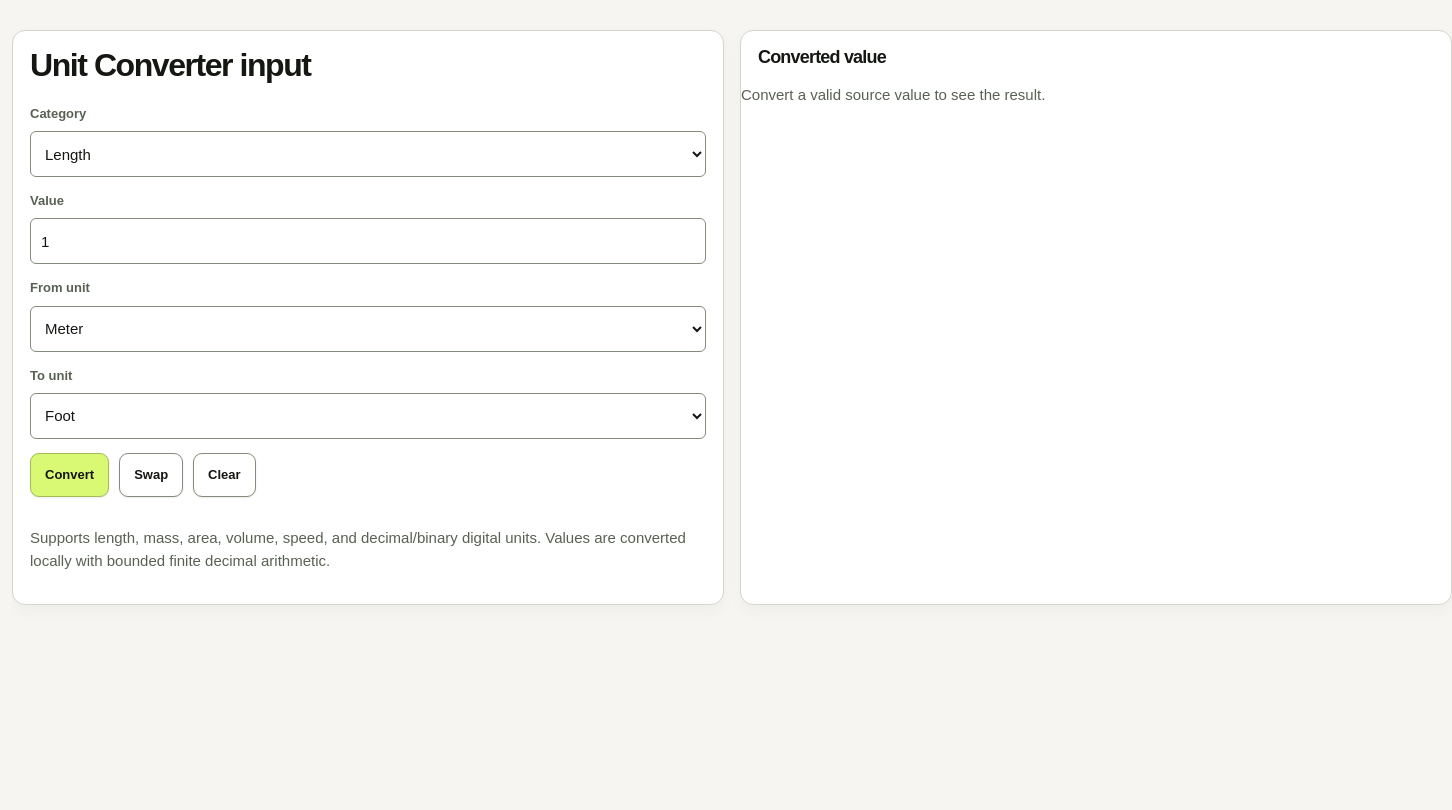
Scenario: NumericStation › renders the declared controls and converts unit-converter
Expected: the dropdown labelled "Category" is shown, [30,131,706,177]
Expected: the field labelled "Value" is shown, [30,218,706,264]
Click the button "Convert" at coordinates (70, 475), box [30,453,109,497]
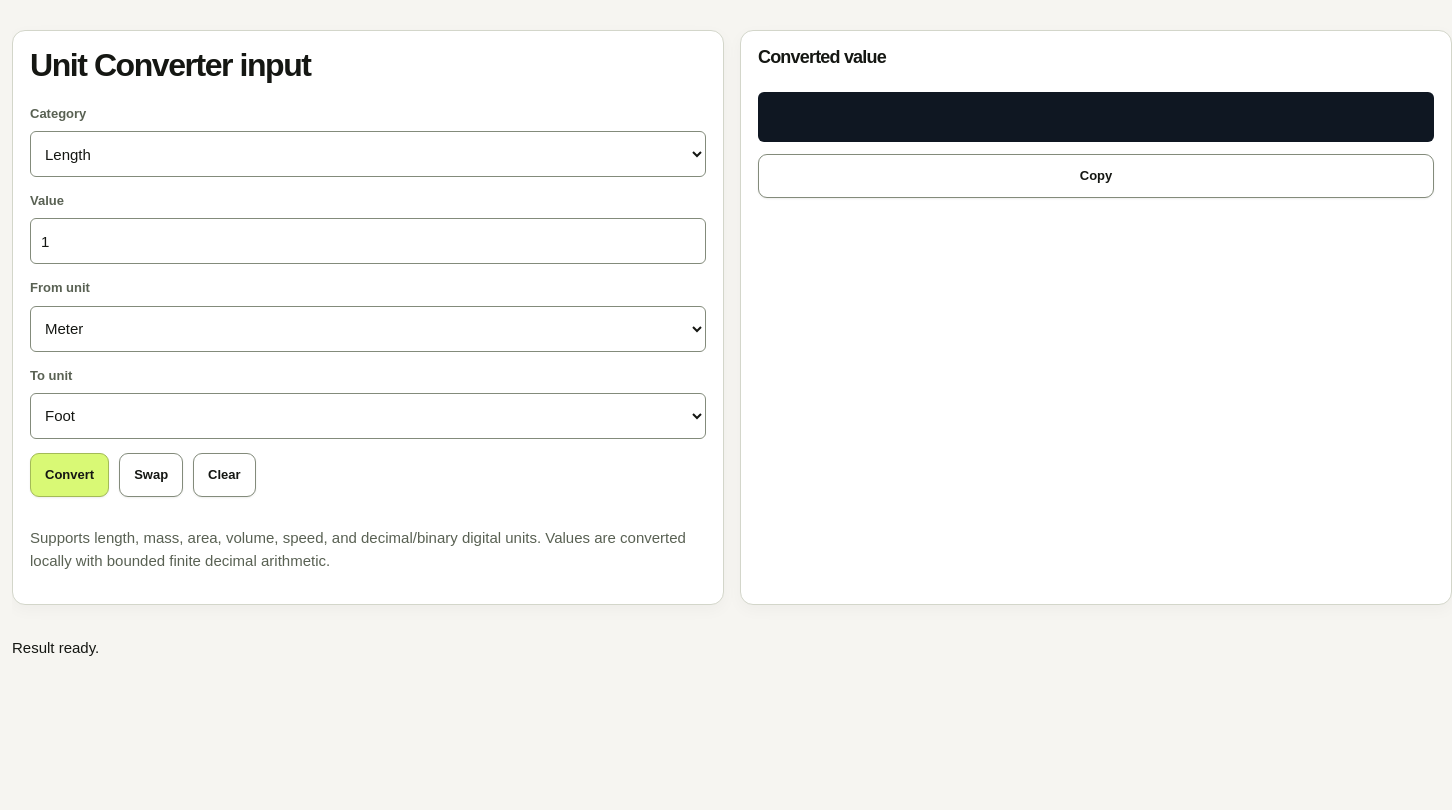
Now the message reads "Result ready.", box [12,639,99,656]
Now the button "Copy" is shown, box [758,154,1434,198]
Click the button "Clear" at coordinates (224, 475), box [193,453,256,497]
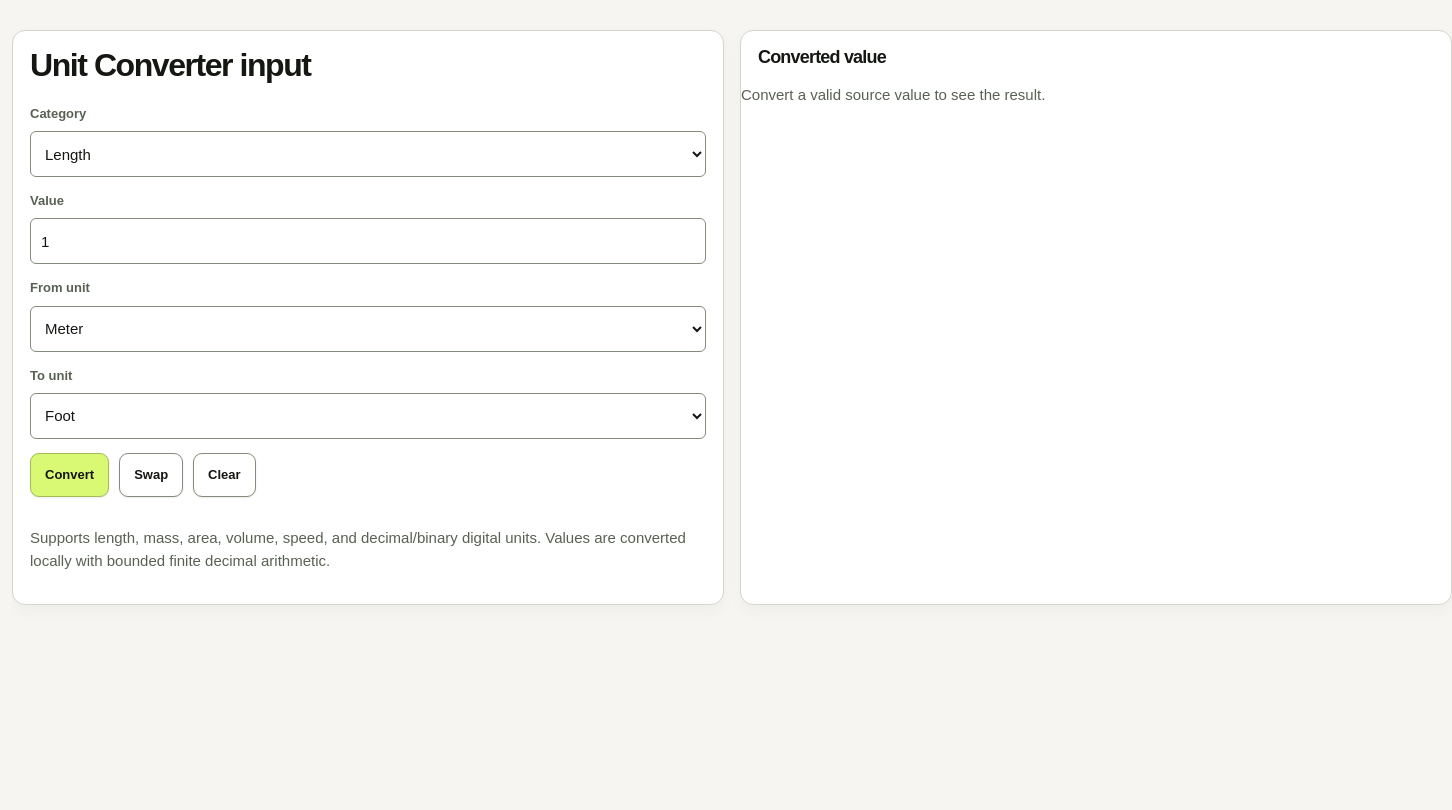
Now the message "Result ready." is gone
